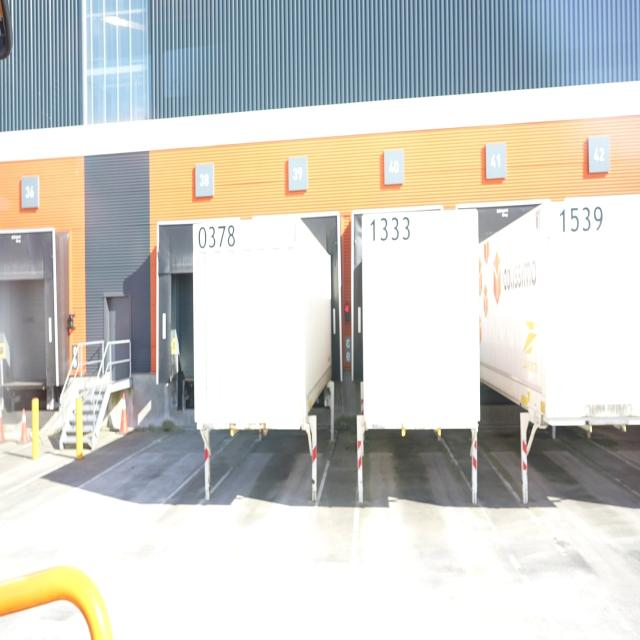Code: (557, 206, 607, 240), (370, 215, 414, 244), (196, 223, 238, 252)
